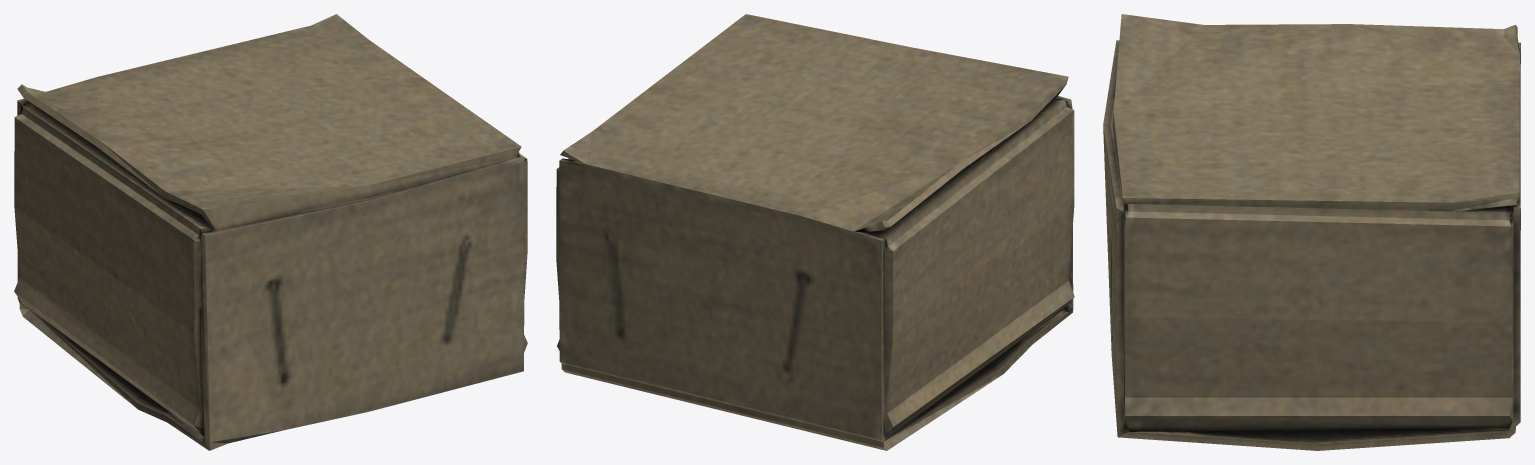
3 renders of one model, left to right at view 1: azimuth 30°, elevation 25°; view 2: azimuth 150°, elevation 25°; view 3: azimuth 270°, elevation 25°, orthographic. The views are drawn at different scales.
Parts seen in each view (by area): view 1: TW_573728cc24597765cc785b5d_PZ_Import; view 2: TW_573728cc24597765cc785b5d_PZ_Import; view 3: TW_573728cc24597765cc785b5d_PZ_Import.
Part boxes in pixels (left/top/right/bottom): TW_573728cc24597765cc785b5d_PZ_Import: left=14, top=14, right=527, bottom=450; TW_573728cc24597765cc785b5d_PZ_Import: left=556, top=14, right=1074, bottom=450; TW_573728cc24597765cc785b5d_PZ_Import: left=1103, top=14, right=1520, bottom=450.
Size of the model in its own units: 0.0264 by 0.0266 by 0.0189.
Materials: 1 (1 with a texture image).
